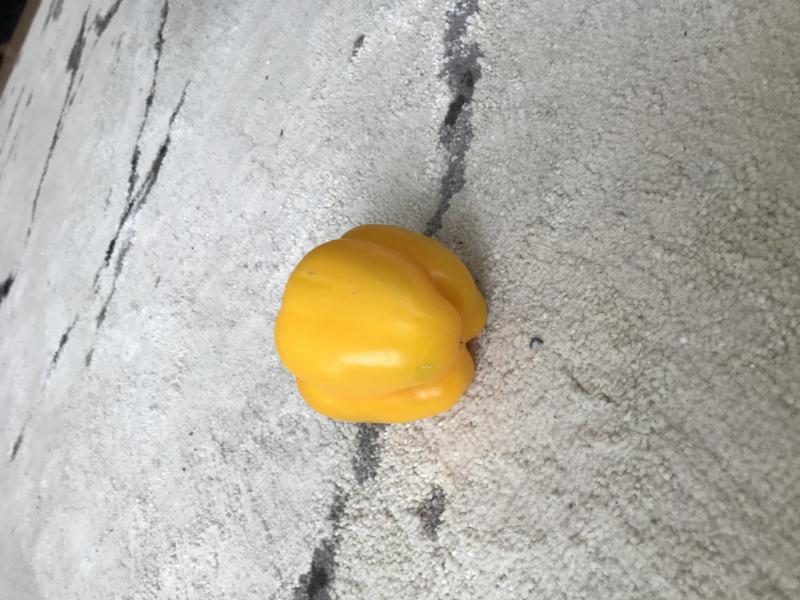yellow_pepper: (261, 217, 496, 432)
